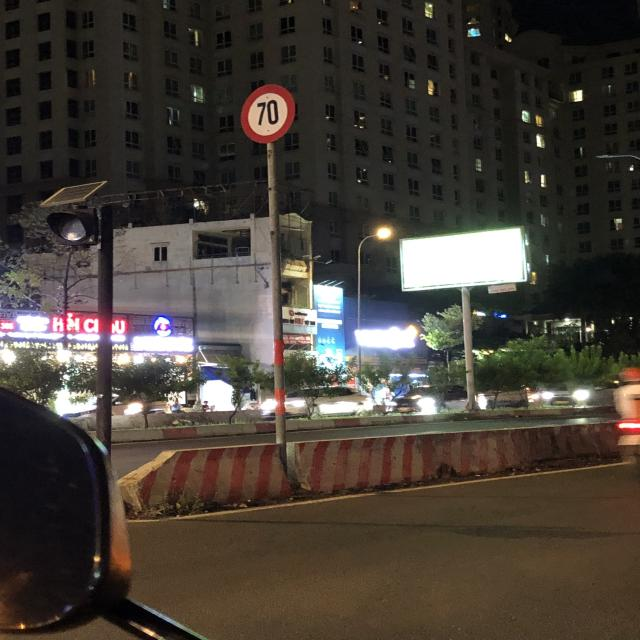Bien bao toc do toi da cho phep: (238, 80, 299, 144)
